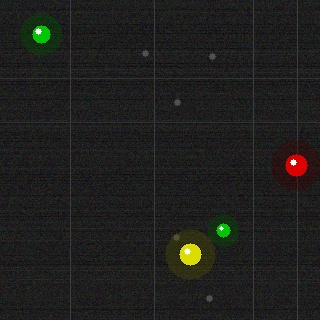green_normal: (30, 23, 52, 45), (214, 221, 232, 239)
red_fault: (283, 152, 309, 178)
yellow_warning: (177, 241, 203, 267)
